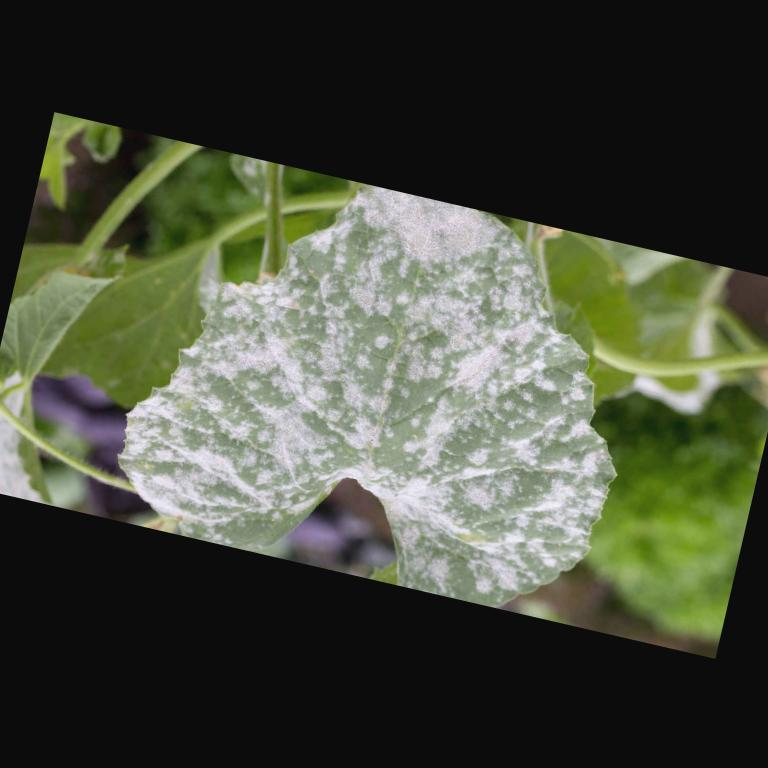powdery-mildew: (389, 359, 587, 558), (207, 294, 403, 472), (339, 192, 519, 336)
